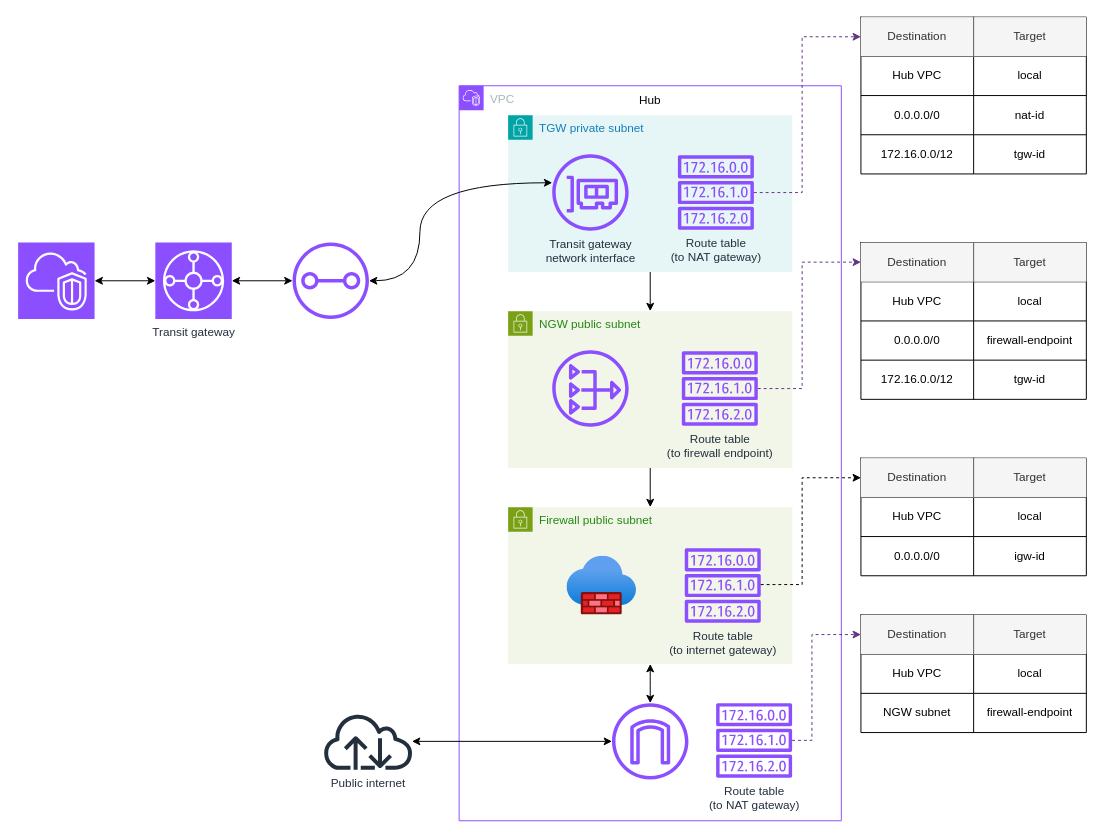
The diagram is 1103 pixels wide and 838 high, and some of its shapes have lost their labels. Each missing label, with the centre of its shape:
Hub transit gateway attachment: (x=330, y=280)
Internet gateway: (x=650, y=741)
NAT gateway: (x=590, y=388)
Network firewall: (x=601, y=585)
Spoke VPC (172.16.0.0/12): (x=56, y=280)
